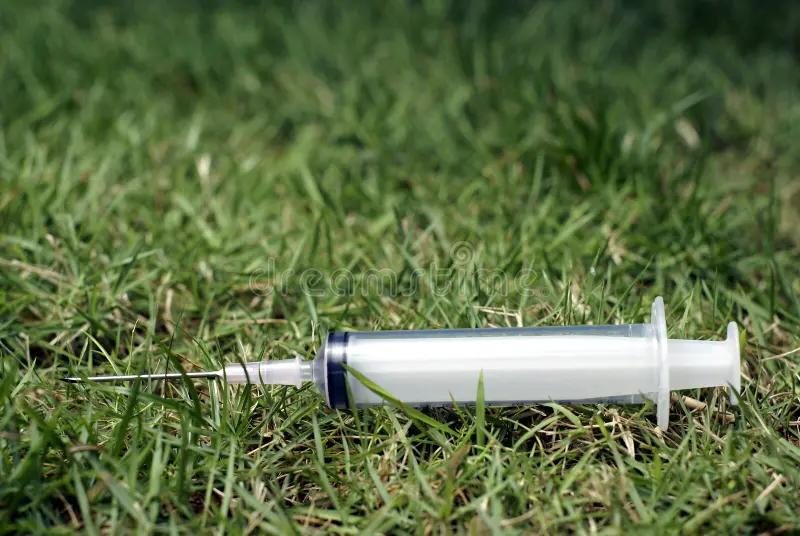Syringe: (185, 297, 739, 429)
